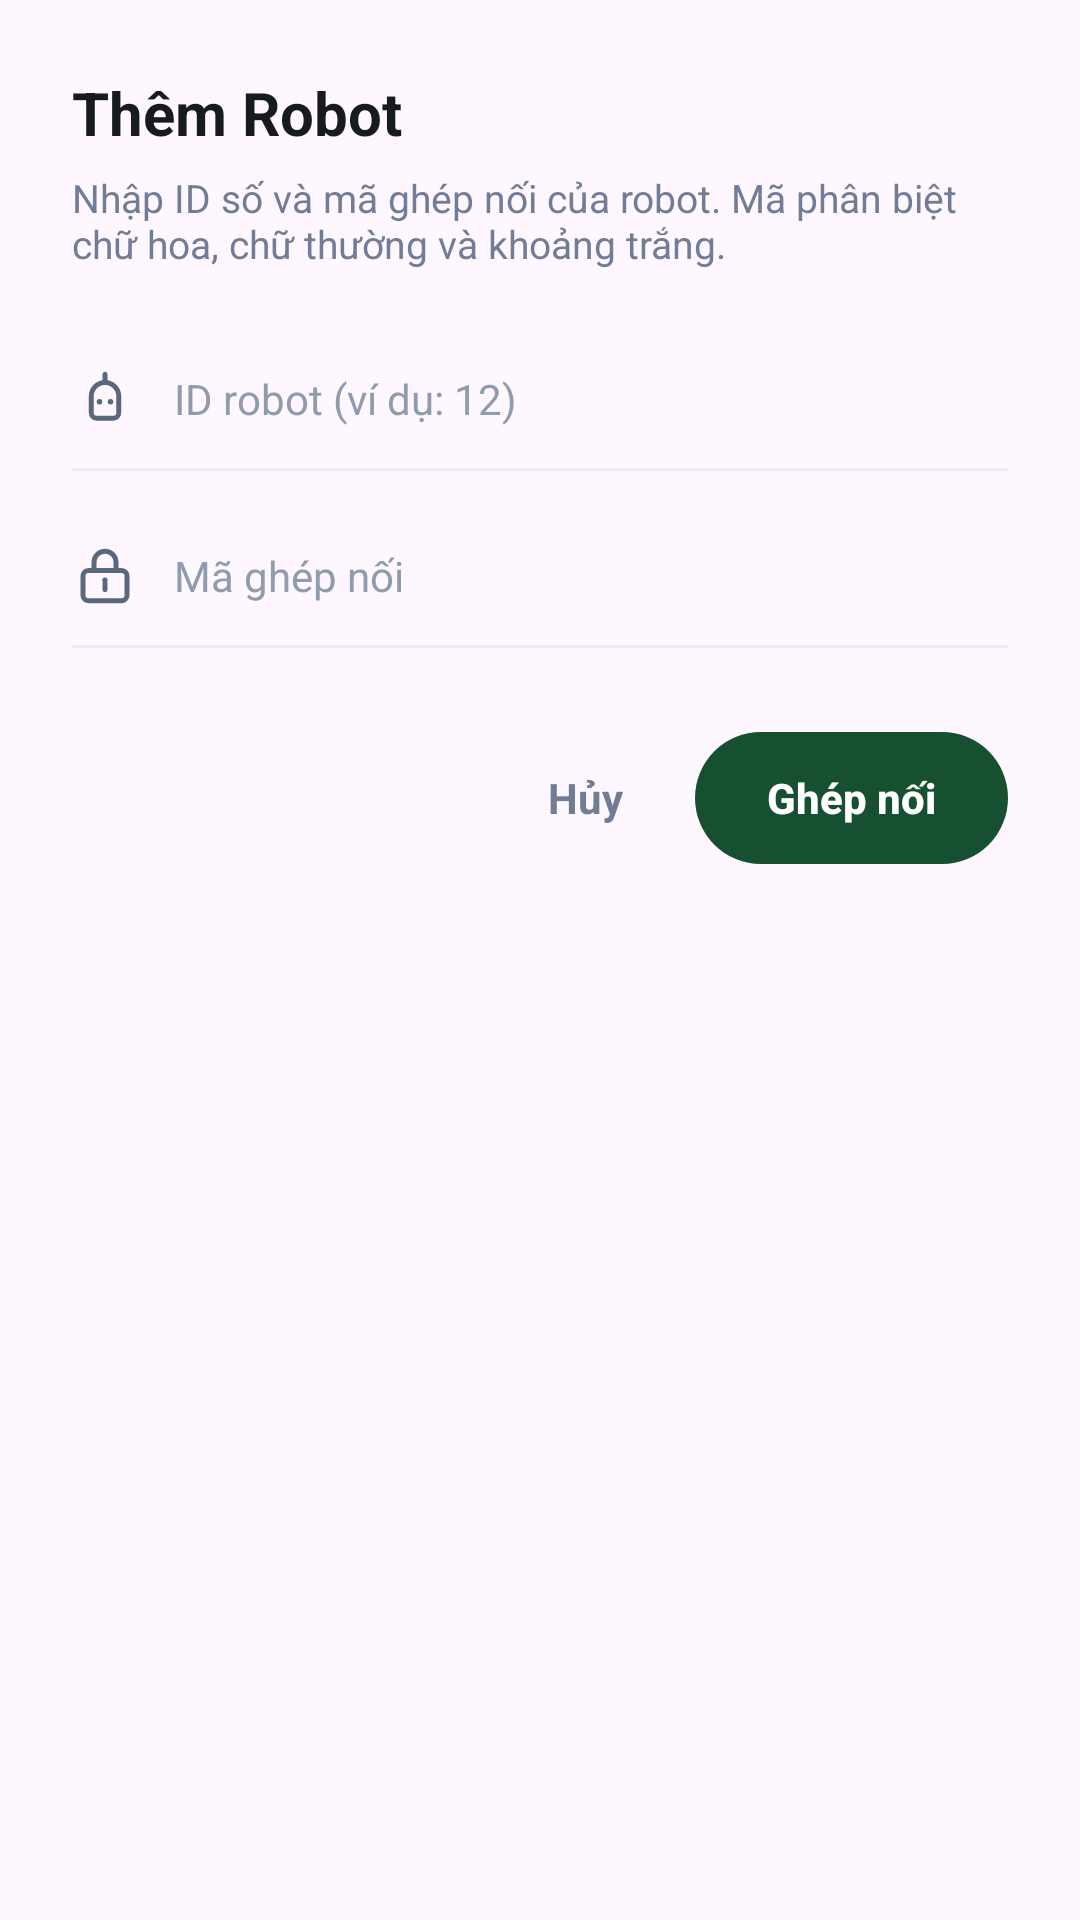

Icon click points for this 1080*1920 phone screenshot, format point (x, y):
lock: point (105, 576)
